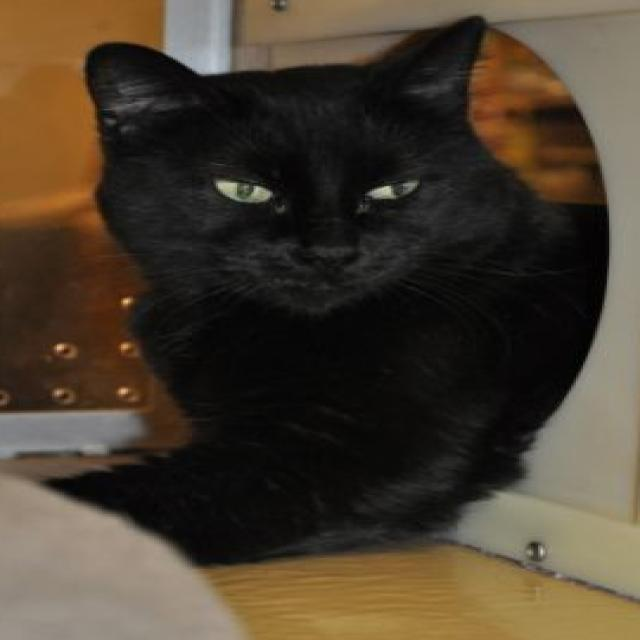Bombay: (38, 10, 606, 568)
